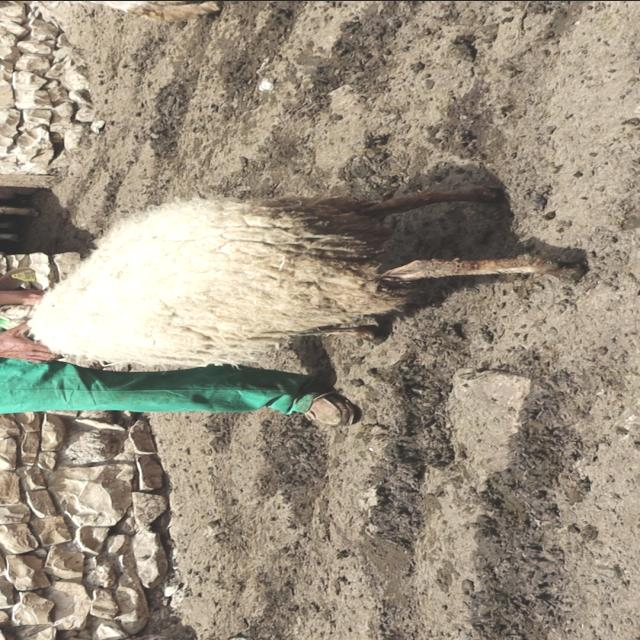Score_4: (0, 187, 583, 366)
